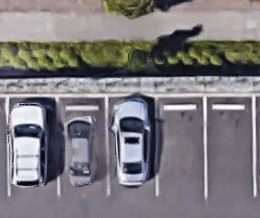Occupied: (7, 96, 59, 195), (58, 95, 109, 195), (107, 95, 157, 196)
Vacant: (157, 95, 206, 197), (206, 95, 255, 197)
